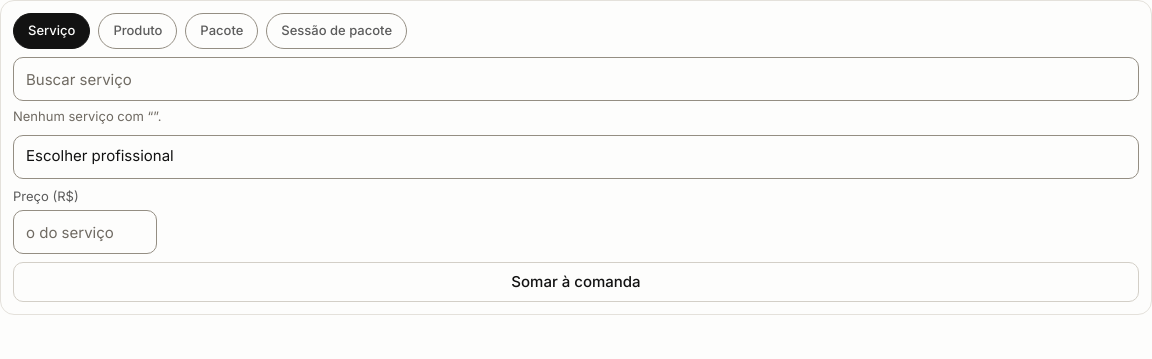
Test: sem escolher o produto, Somar fica desligado
This screenshot has width=1152, height=359.
Click the radio button labelled "Produto" at (138, 31), box [98,13,177,49]
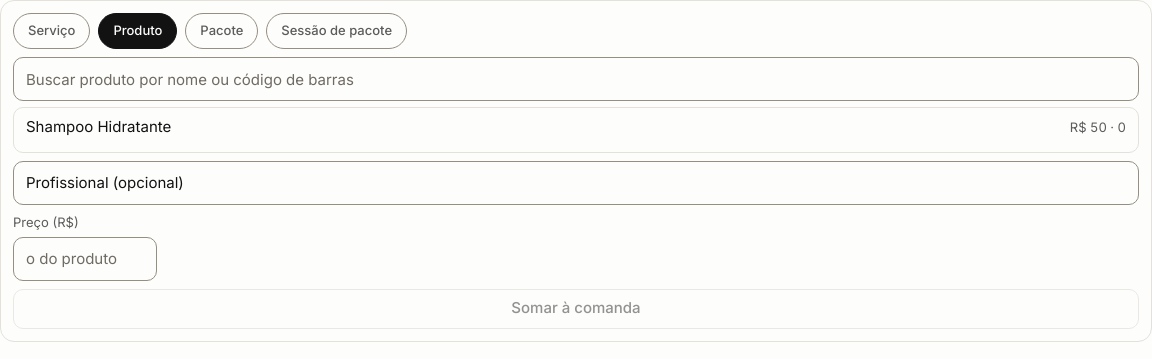
Expected: the button "Somar à comanda" is disabled, [13,288,1139,328]
